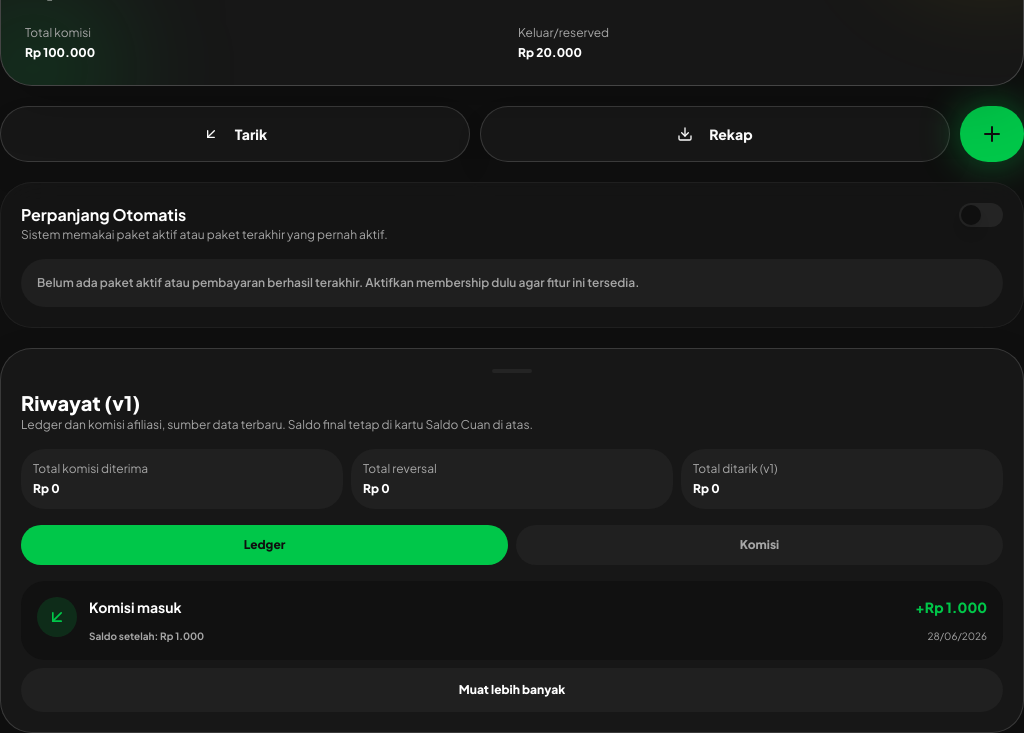
Test: Wallet page › paginates the v1 ledger via Muat lebih banyak, appending rather than replacing items
The width and height of the screenshot is (1024, 733).
(page scrolled)
Expected: the element with test id "wallet-v1-ledger-item-l1" is shown, x1=21 y1=581 x2=1003 y2=660
What coordinates should you click on to do the following:
click the button with test id "wallet-v1-ledger-load-more"
I would click on:
 (512, 690)
Its box is x1=21 y1=668 x2=1003 y2=712.
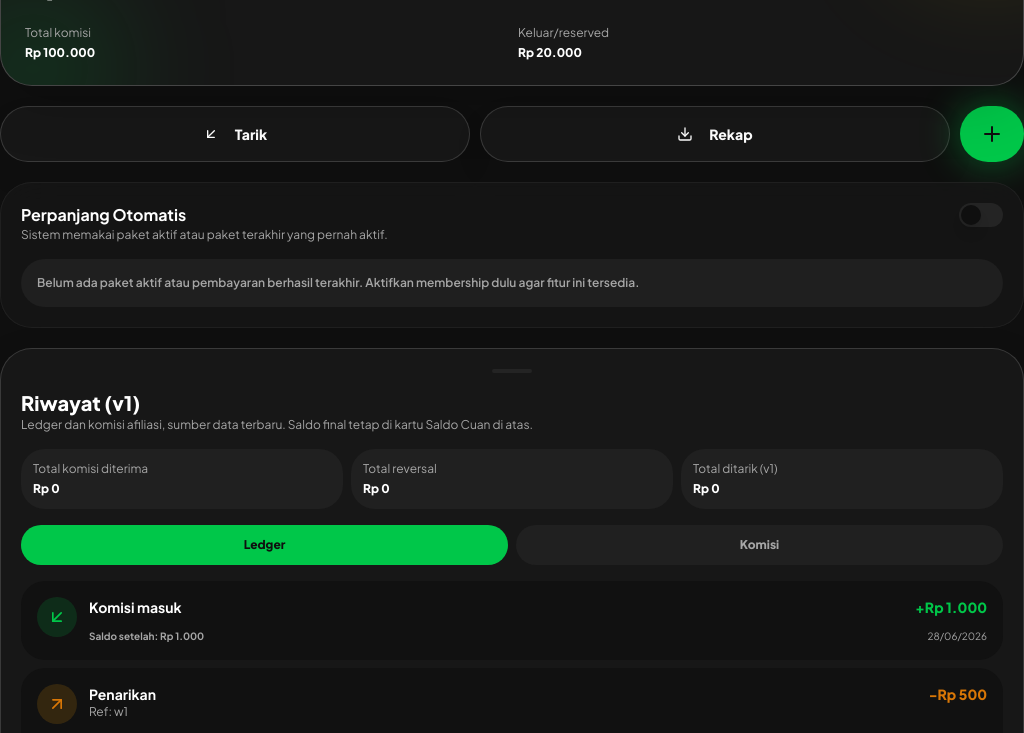
Expected: the element with test id "wallet-v1-ledger-item-l1" is shown, x1=21 y1=581 x2=1003 y2=660
Now the button with test id "wallet-v1-ledger-load-more" is gone
